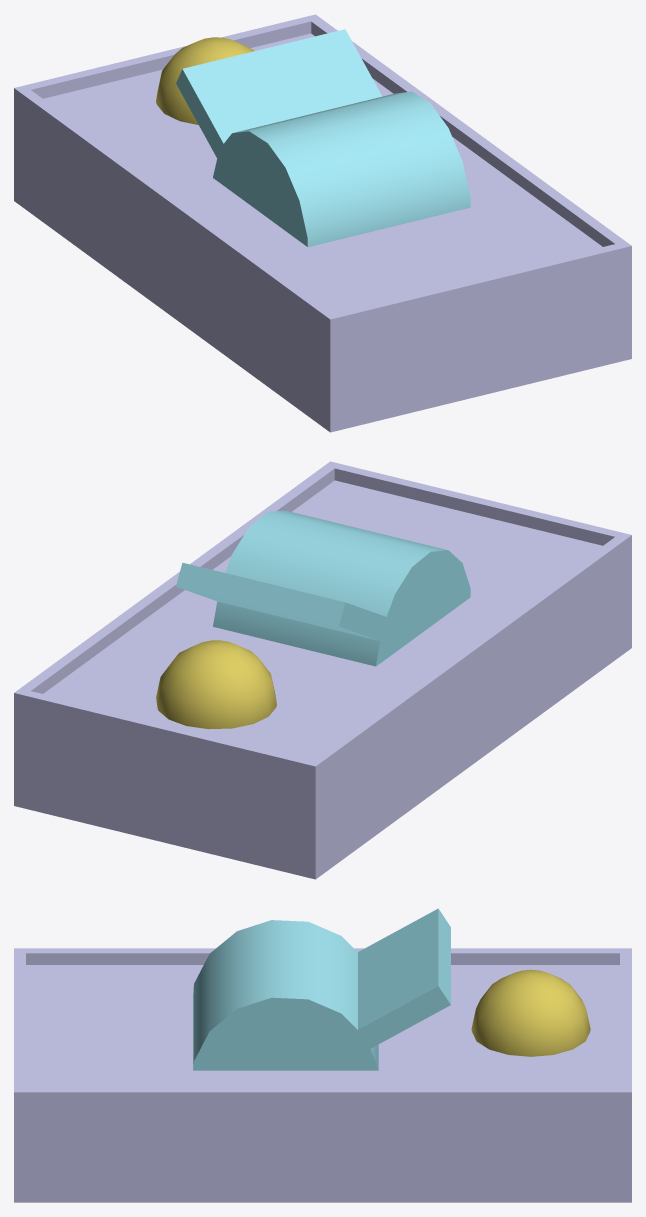
Rendered from Elemento_encendido.glb.
3 renders of one model, top to bottom at view 1: azimuth 30°, elevation 25°; view 2: azimuth 150°, elevation 25°; view 3: azimuth 270°, elevation 25°, orthographic. The views are drawn at different scales.
Parts seen in each view (by area): view 1: Box001, Cylinder001, Sphere001; view 2: Box001, Cylinder001, Sphere001; view 3: Box001, Cylinder001, Sphere001.
Boxes of the visible parts, x1,y1,x2,y2 form: Box001: (14, 14, 631, 432); Cylinder001: (176, 29, 470, 246); Sphere001: (156, 37, 254, 124); Box001: (14, 461, 631, 879); Cylinder001: (176, 510, 470, 666); Sphere001: (156, 640, 276, 729); Box001: (14, 948, 631, 1202); Cylinder001: (193, 908, 450, 1070); Sphere001: (471, 969, 590, 1056).
Bounding box in the file's own units: 0.5553 × 0.3303 × 1.01.
